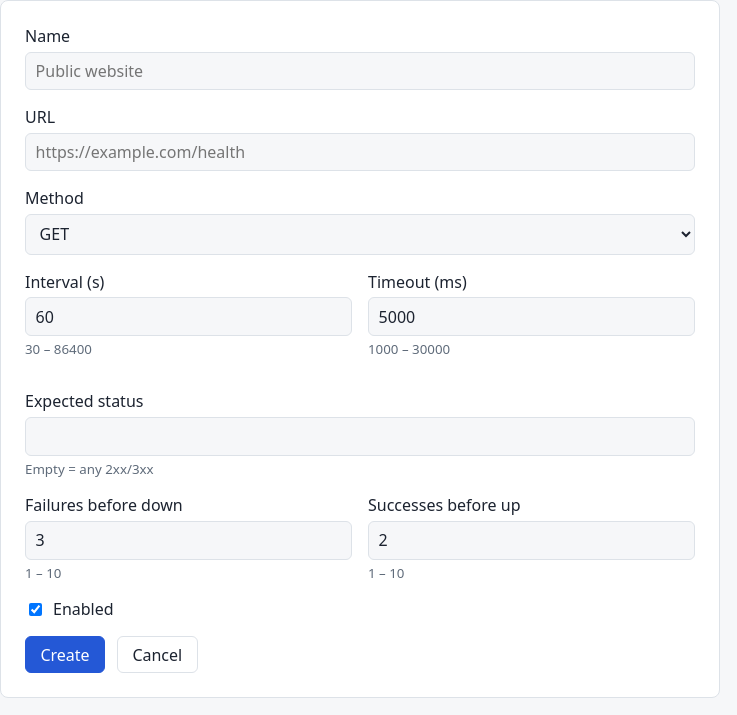
Scenario: MonitorForm › explains a concurrent edit conflict
Type "x" into the field labelled "Name" at point(360, 71), box 25,52 -> 695,90
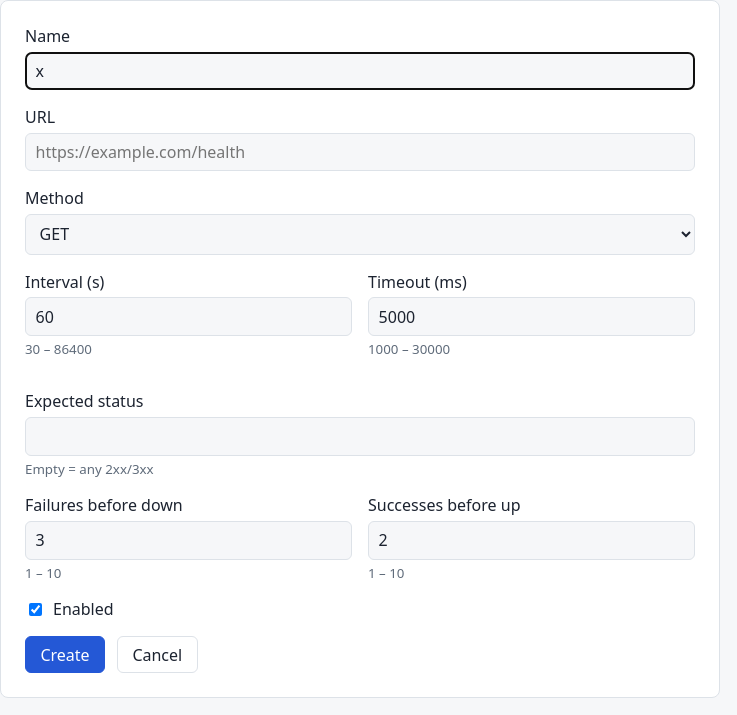
Type "https://example.com" into the field labelled "URL" at point(360, 152), box 25,133 -> 695,171
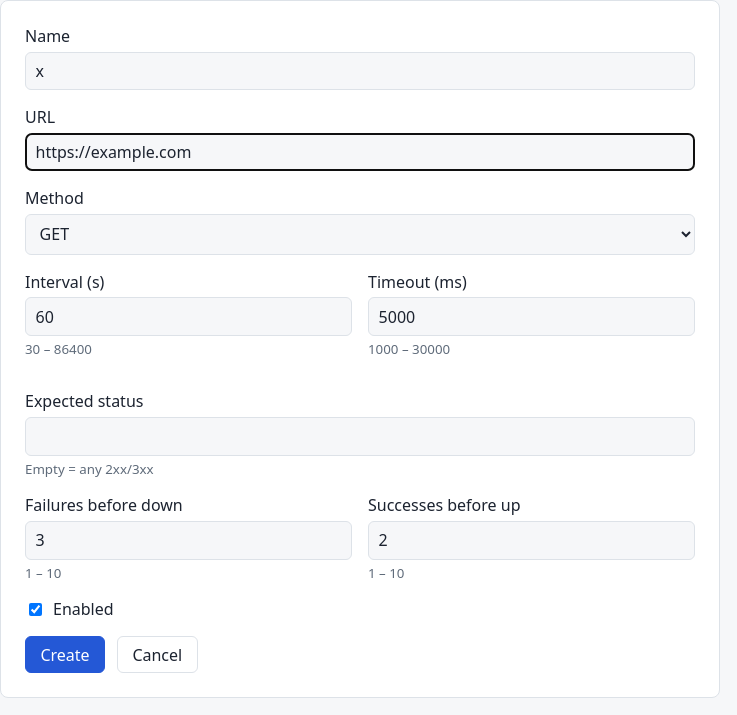
Click the button "Create" at point(65, 655), box 25,636 -> 105,673
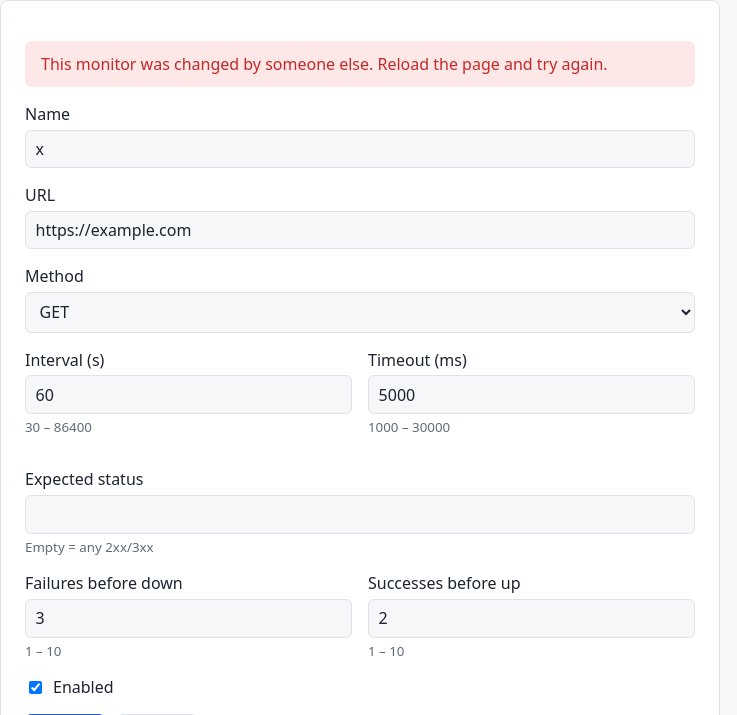
expect the message shows "changed by someone else": met, box 41,53 -> 608,75
